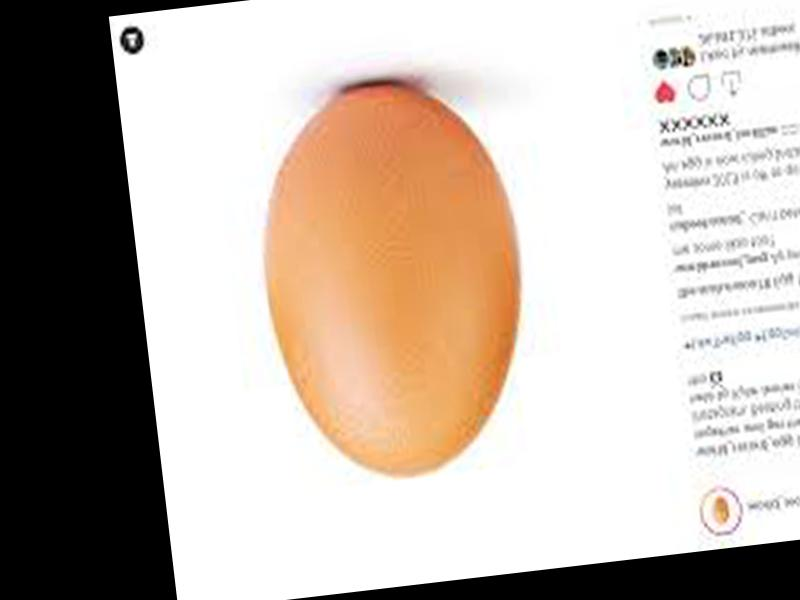Eggs: (245, 74, 542, 488)
